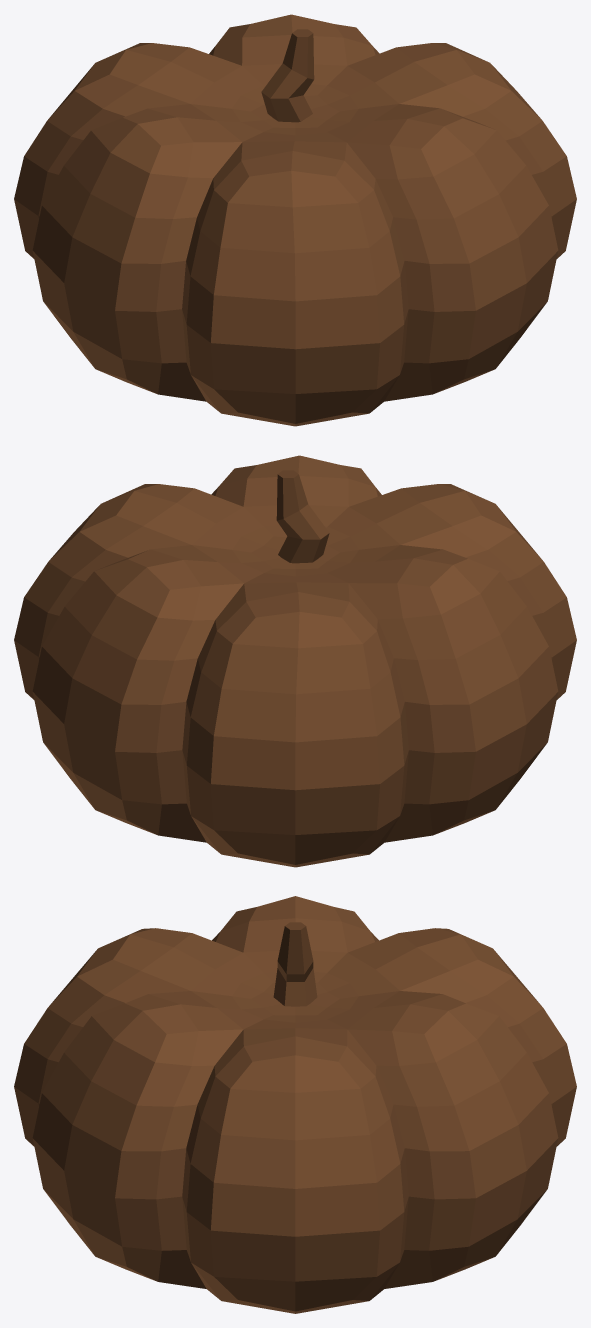
Rendered from cc0-pumpkin-lod0.glb.
3 renders of one model, top to bottom at view 1: azimuth 30°, elevation 25°; view 2: azimuth 150°, elevation 25°; view 3: azimuth 270°, elevation 25°, orthographic.
Visible parts, largest first — view 1: part_0; view 2: part_0; view 3: part_0.
Part boxes in pixels (<box>): part_0: <box>14,14,576,426</box>; part_0: <box>14,455,576,867</box>; part_0: <box>14,896,576,1313</box>.
Bounding box in the file's own units: 1.5 × 0.9309 × 1.51.
